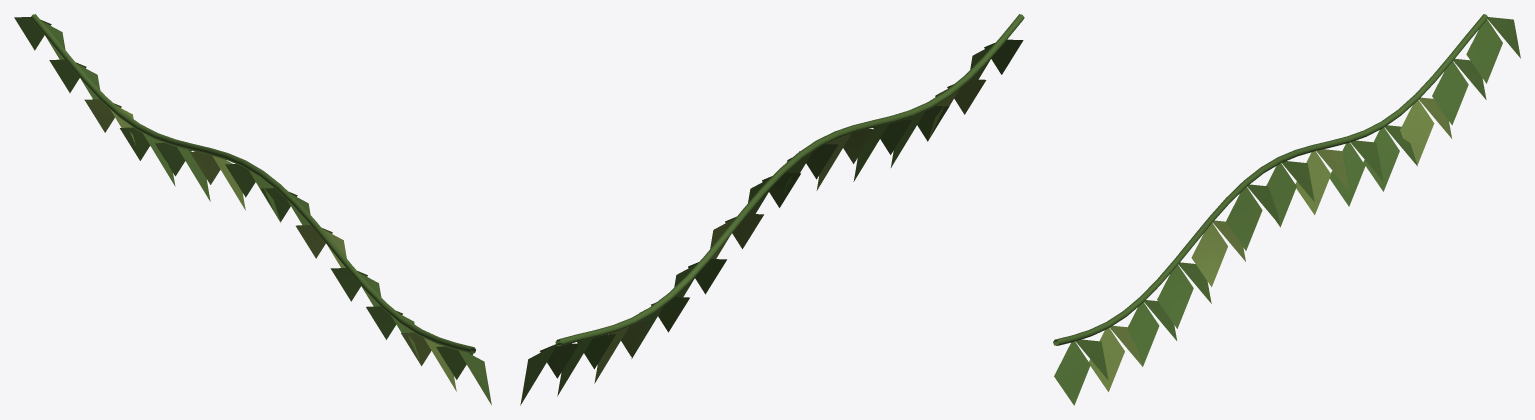
The model's file is 29_Wall_Ivy.fbx.
The picture shows the model from 3 angles, left to right: view 1: azimuth 30°, elevation 25°; view 2: azimuth 150°, elevation 25°; view 3: azimuth 330°, elevation 25°; orthographic projection. The views are drawn at different scales.
Visible parts, largest first — view 1: 29_Wall_Ivy; view 2: 29_Wall_Ivy; view 3: 29_Wall_Ivy.
Boxes of the visible parts, x1,y1,x2,y2 form: 29_Wall_Ivy: (14,14,491,405); 29_Wall_Ivy: (520,14,1024,405); 29_Wall_Ivy: (1053,14,1520,405).
Size of the model in its own units: 11.3 by 39.8 by 348.
Materials: 1 (1 with a texture image).
